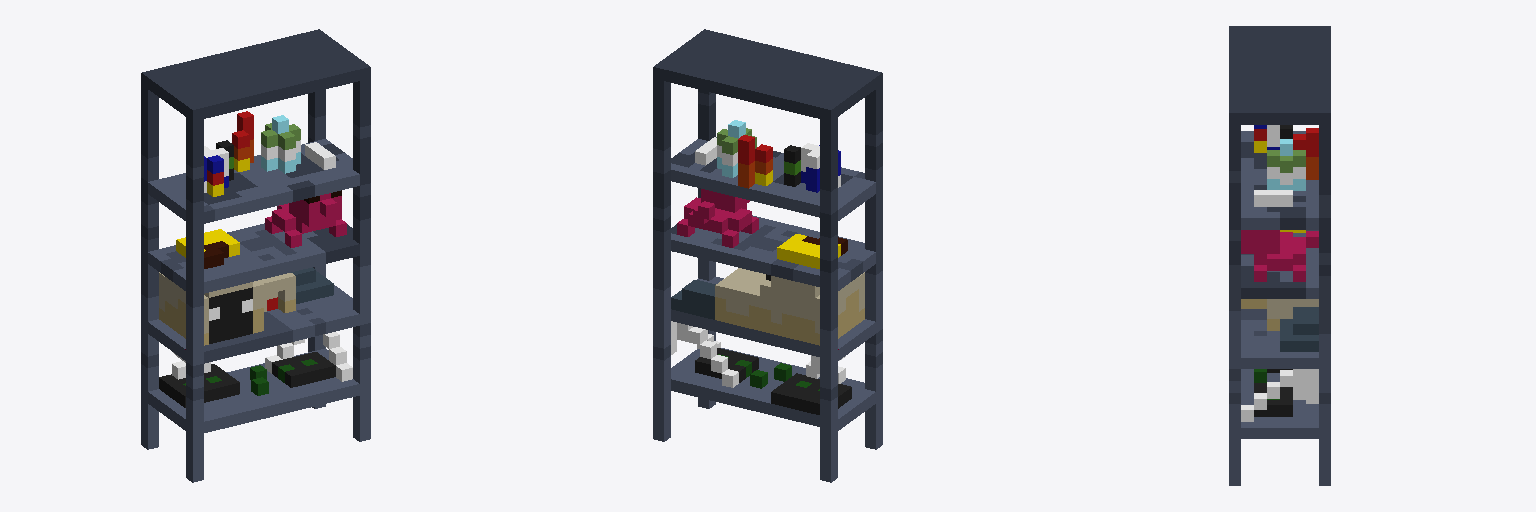
The picture shows the model from 3 angles: view 1: azimuth 30°, elevation 25°; view 2: azimuth 150°, elevation 25°; view 3: azimuth 270°, elevation 25°; orthographic projection.
Visible parts, largest first — view 1: Shelf; view 2: Shelf; view 3: Shelf.
Boxes of the visible parts, x1,y1,x2,y2 form: Shelf: [141, 29, 370, 482]; Shelf: [653, 29, 882, 482]; Shelf: [1229, 26, 1330, 485].
Bounding box in the file's own units: 1.6 × 3.2 × 0.8.
1 materials, 1 textured.